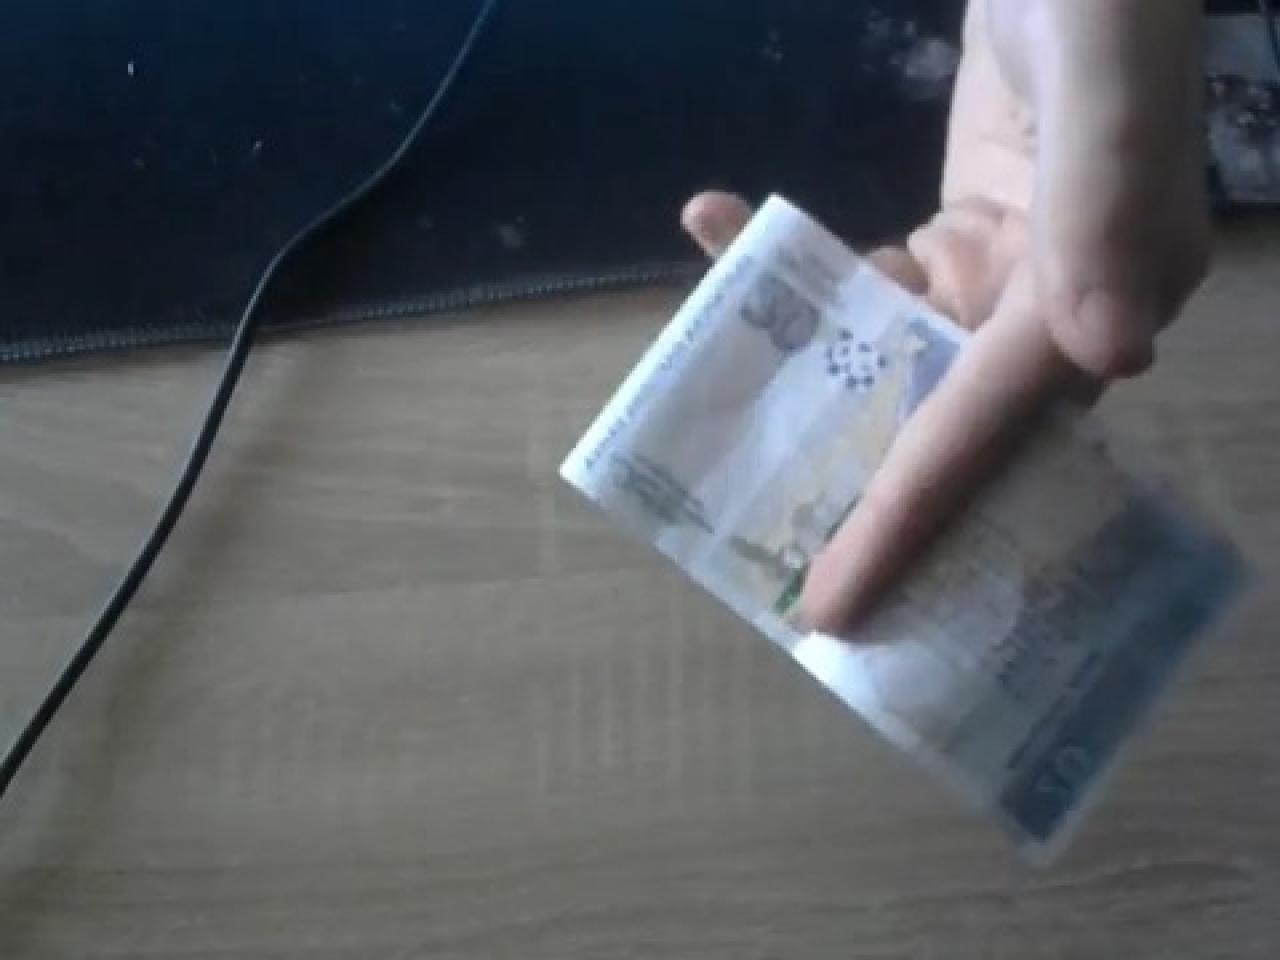20leva: (595, 0, 1224, 864)
